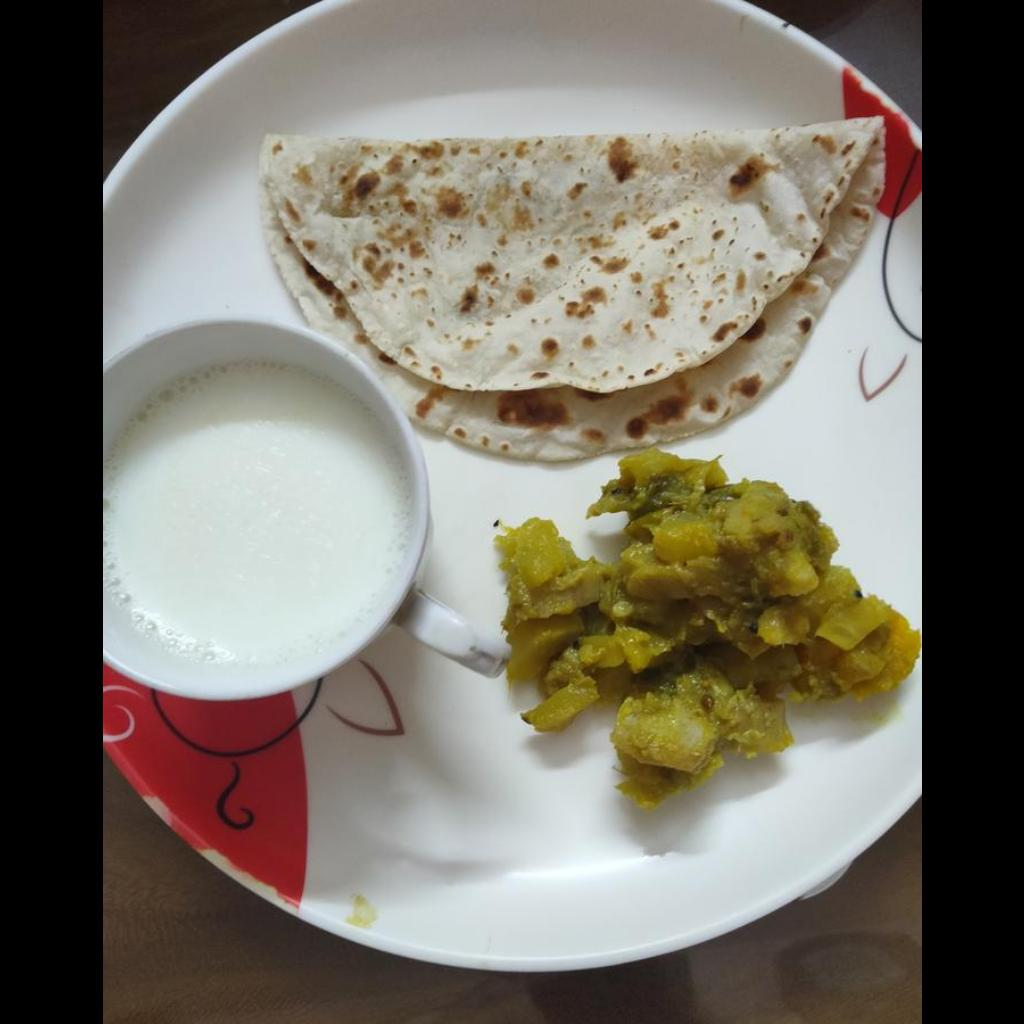milk: (103, 372, 408, 672)
ruti: (262, 116, 887, 469)
vaji: (486, 456, 920, 800)
